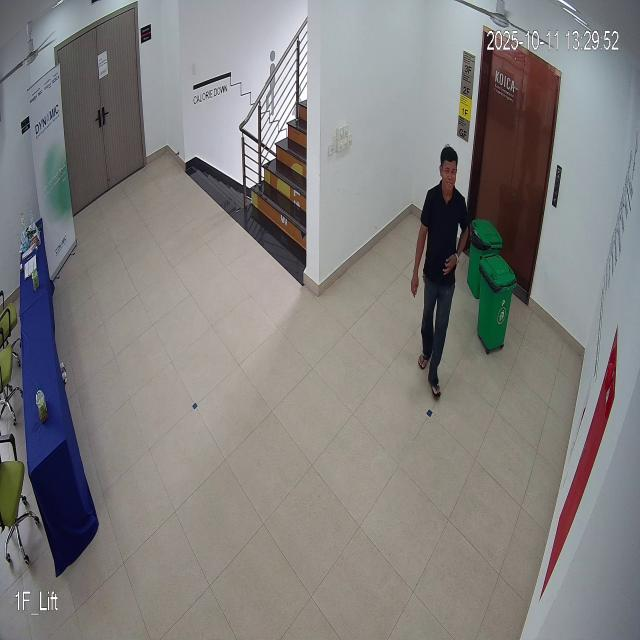face: (437, 143, 461, 195)
